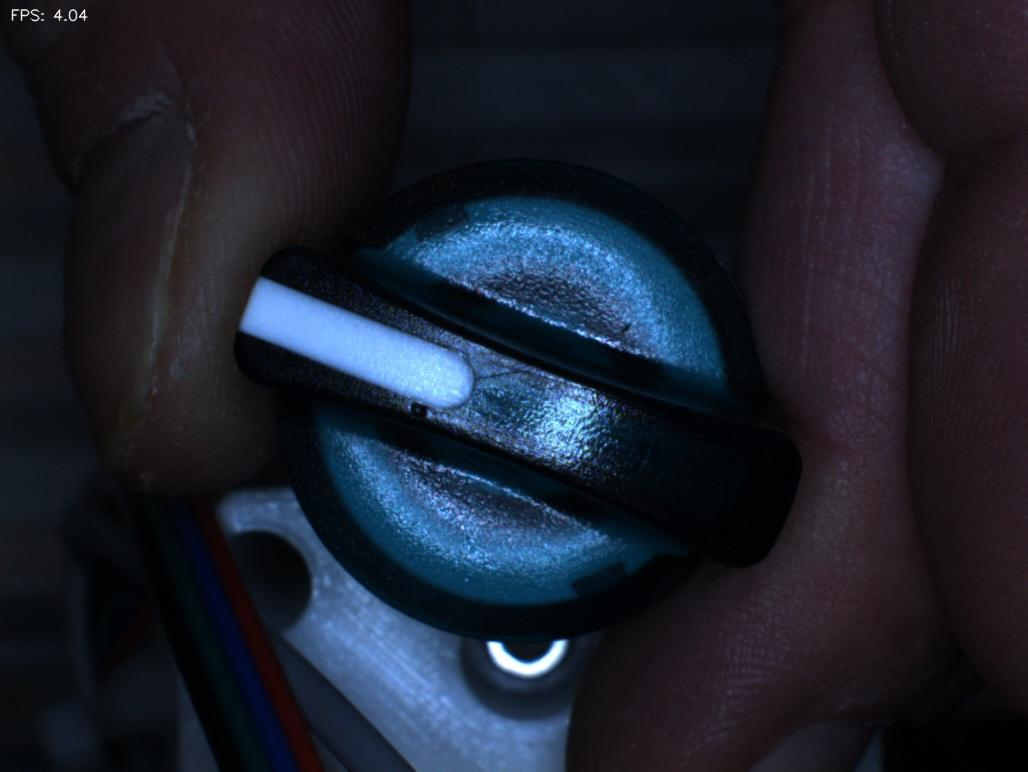Choc: (369, 374, 467, 461)
